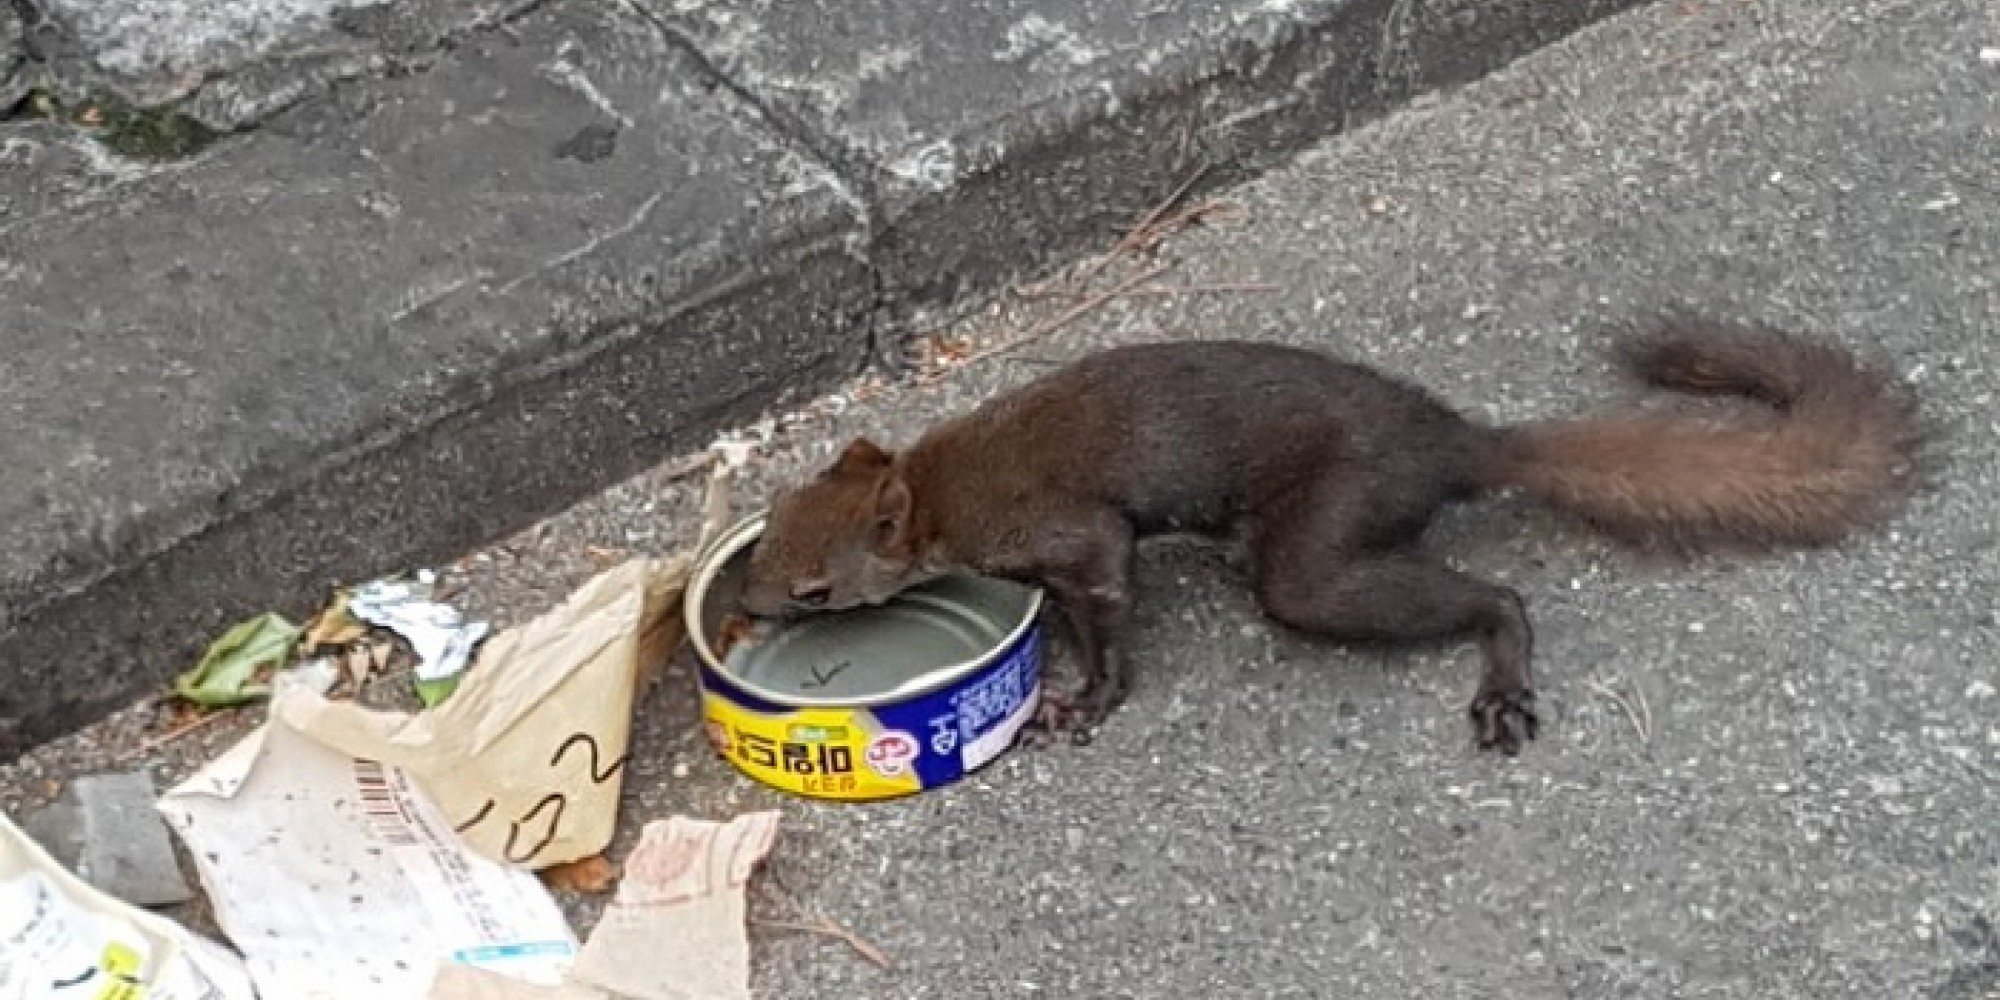chungseolmo: (768, 312, 1945, 745)
